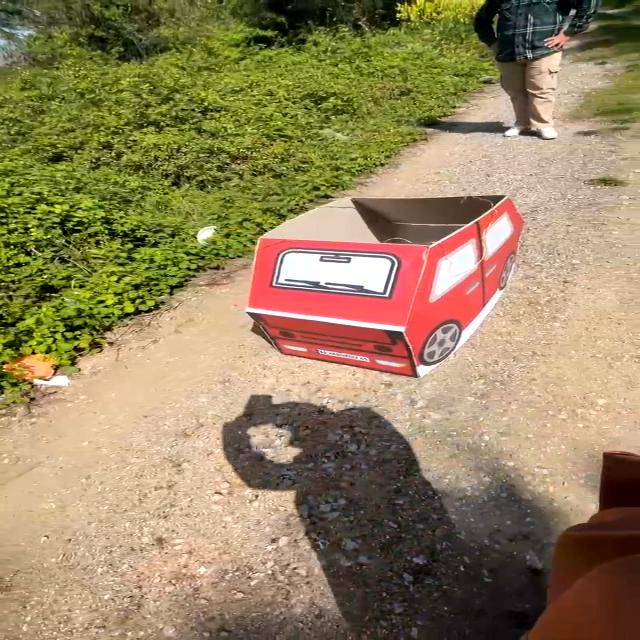red_car: (191, 191, 552, 387)
